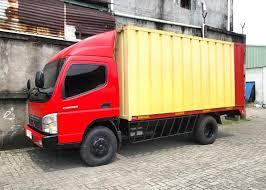truck: (19, 27, 135, 169)
